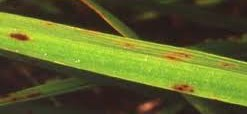Bercak Coklat: (8, 30, 34, 46)
